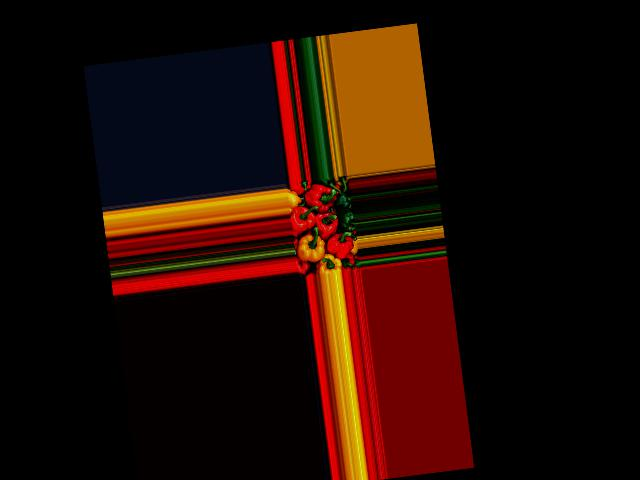bell_pepper: (286, 190, 301, 208)
